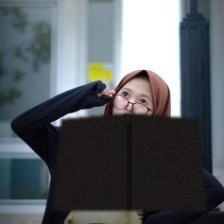Cadar_Niqab: (52, 65, 206, 210)
